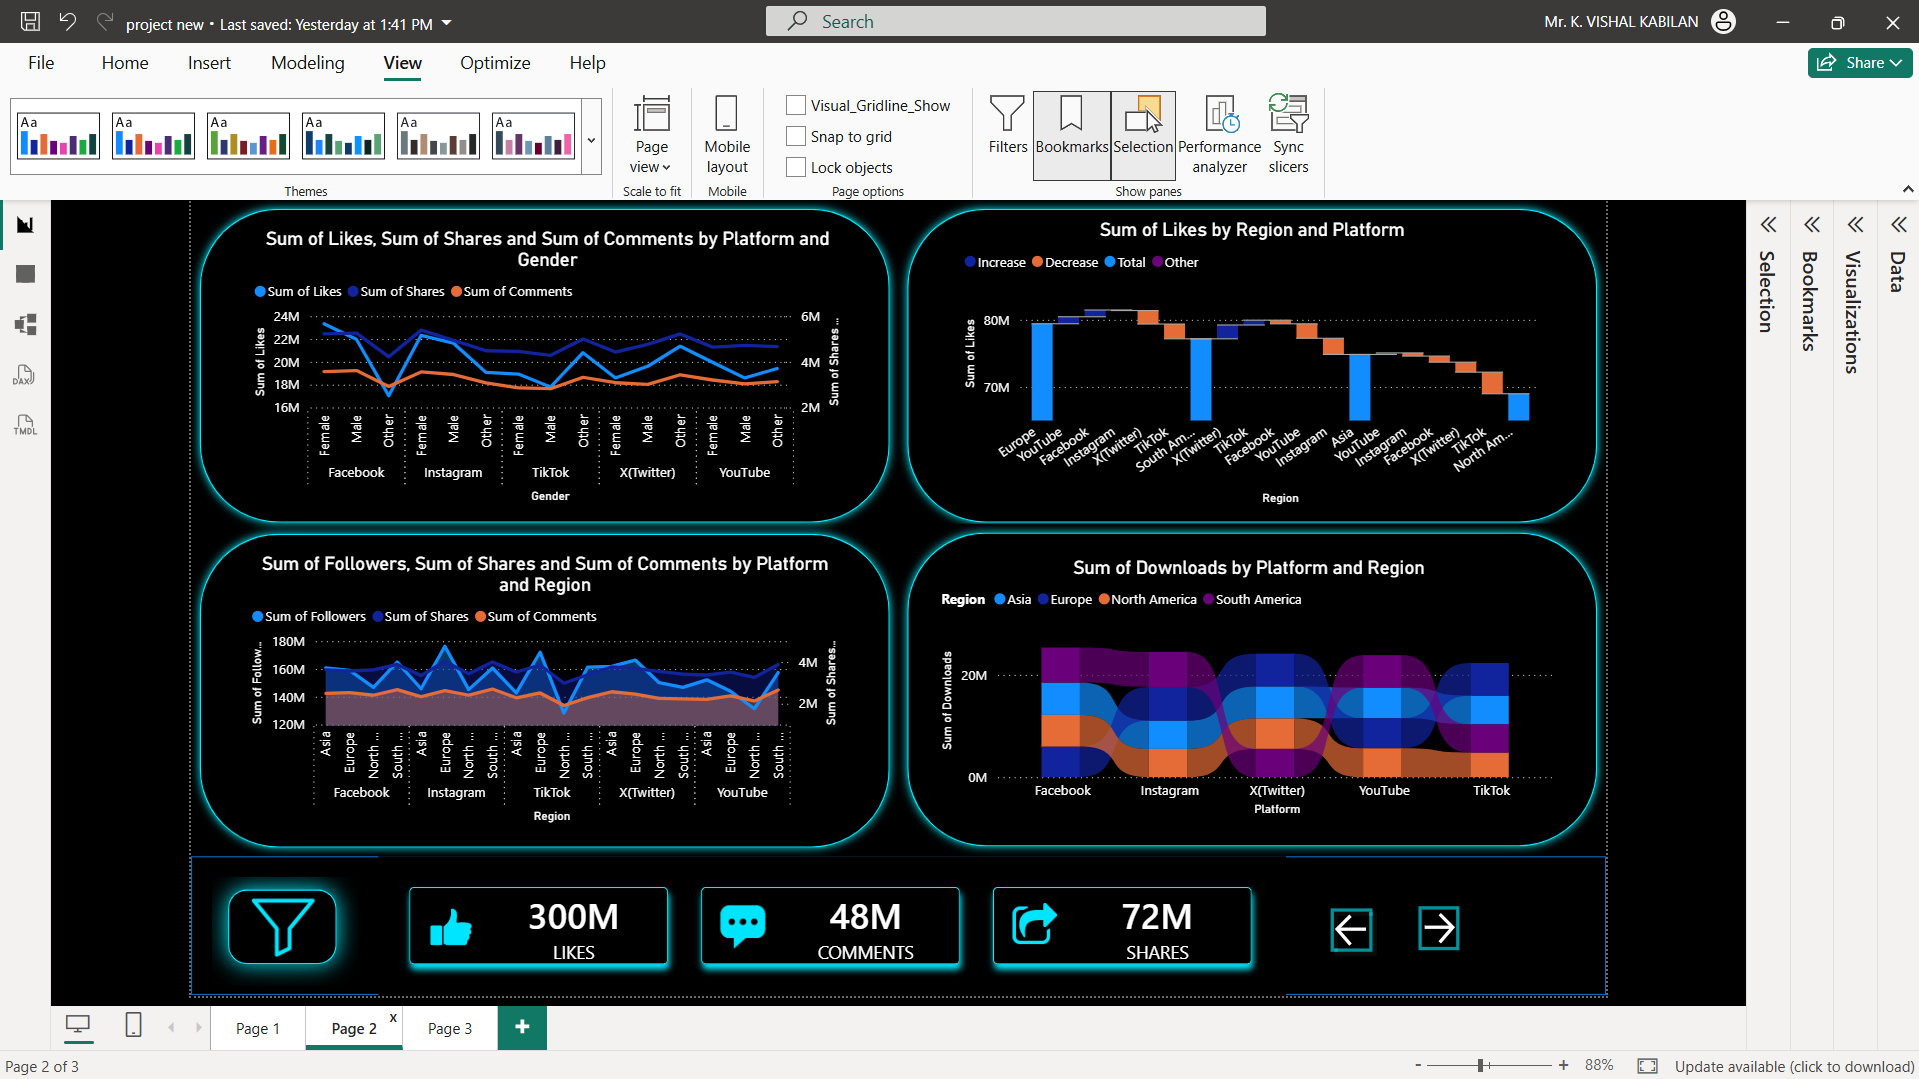

What the dashboard file says about the page in this screenshot:
{"tool":"powerbi","page":{"name":"Page 2","canvas":[1280,720],"ordinal":1},"visuals":[{"type":"group","id":"g1","title":"Group 3","box":[0,0,1280,719.5],"z":0},{"type":"lineChart","fields":{"Category":["SocialMedia_Flat_Joined.Platform","SocialMedia_Flat_Joined.Gender"],"Y":["Sum(SocialMedia_Flat_Joined.Likes)"],"Y2":["Sum(SocialMedia_Flat_Joined.Shares)","Sum(SocialMedia_Flat_Joined.Comments)"]},"box":[51.7,24.3,541,253.8],"z":0,"group":"g2"},{"type":"shape","box":[0,594,1280,125.5],"z":0,"group":"g1"},{"type":"areaChart","fields":{"Category":["SocialMedia_Flat_Joined.Platform","SocialMedia_Flat_Joined.Region"],"Y":["Sum(SocialMedia_Flat_Joined.Followers)"],"Y2":["Sum(SocialMedia_Flat_Joined.Shares)","Sum(SocialMedia_Flat_Joined.Comments)"]},"box":[49.3,318.2,541,249.6],"z":1000,"group":"g2"},{"type":"shape","box":[13.9,603.7,138,107.4],"z":1000,"group":"g1"},{"type":"image","box":[48.8,630.2,69.7,57.2],"z":1000},{"type":"shape","box":[640,0,640,299.8],"z":2000,"group":"g1"},{"type":"group","id":"g2","title":"Group 2","box":[49.3,16.8,1190.3,551],"z":2000},{"type":"waterfallChart","fields":{"Category":["SocialMedia_Flat_Joined.Region"],"Breakdown":["SocialMedia_Flat_Joined.Platform"],"Y":["Sum(SocialMedia_Flat_Joined.Likes)"]},"box":[693.5,16.8,531.2,263.5],"z":2000,"group":"g2"},{"type":"shape","box":[0,0,640,299.8],"z":3000,"group":"g1"},{"type":"ribbonChart","fields":{"Category":["SocialMedia_Flat_Joined.Platform"],"Y":["Sum(SocialMedia_Flat_Joined.Downloads)"],"Series":["SocialMedia_Flat_Joined.Region"]},"box":[673.5,322.4,566.1,239.8],"z":3000,"group":"g2"},{"type":"shape","box":[0,294.2,640,299.8],"z":4000,"group":"g1"},{"type":"cardVisual","fields":{"Data":["Sum(SocialMedia_Flat_Joined.Likes)","Sum(SocialMedia_Flat_Joined.Comments)","Sum(SocialMedia_Flat_Joined.Shares)"]},"box":[169.3,593.8,820.8,126.3],"z":4000},{"type":"shape","box":[640,292.8,640,299.8],"z":5000,"group":"g1"},{"type":"actionButton","box":[1010.2,620.7,77.9,79.3],"z":5000},{"type":"actionButton","box":[1101.6,630.1,55.1,57.8],"z":6000}]}

Visuals, with their boxes on the page's 1280x720 design canvas (x1, y1, x2, y2). These are canvas units, not pixel positions in the 1919x1079 screenshot, which may show the page scaled, cropped or inside an application window:
"Group 3" group: box(0, 0, 1280, 720)
lineChart - SocialMedia_Flat_Joined.Platform x SocialMedia_Flat_Joined.Gender: box(52, 24, 593, 278)
shape: box(0, 594, 1280, 720)
areaChart - SocialMedia_Flat_Joined.Platform x SocialMedia_Flat_Joined.Region: box(49, 318, 590, 568)
shape: box(14, 604, 152, 711)
image: box(49, 630, 118, 687)
shape: box(640, 0, 1280, 300)
"Group 2" group: box(49, 17, 1240, 568)
waterfallChart - SocialMedia_Flat_Joined.Region x SocialMedia_Flat_Joined.Platform: box(694, 17, 1225, 280)
shape: box(0, 0, 640, 300)
ribbonChart - SocialMedia_Flat_Joined.Platform x Sum(SocialMedia_Flat_Joined.Downloads): box(674, 322, 1240, 562)
shape: box(0, 294, 640, 594)
cardVisual - Sum(SocialMedia_Flat_Joined.Likes) x Sum(SocialMedia_Flat_Joined.Comments): box(169, 594, 990, 720)
shape: box(640, 293, 1280, 593)
actionButton: box(1010, 621, 1088, 700)
actionButton: box(1102, 630, 1157, 688)
